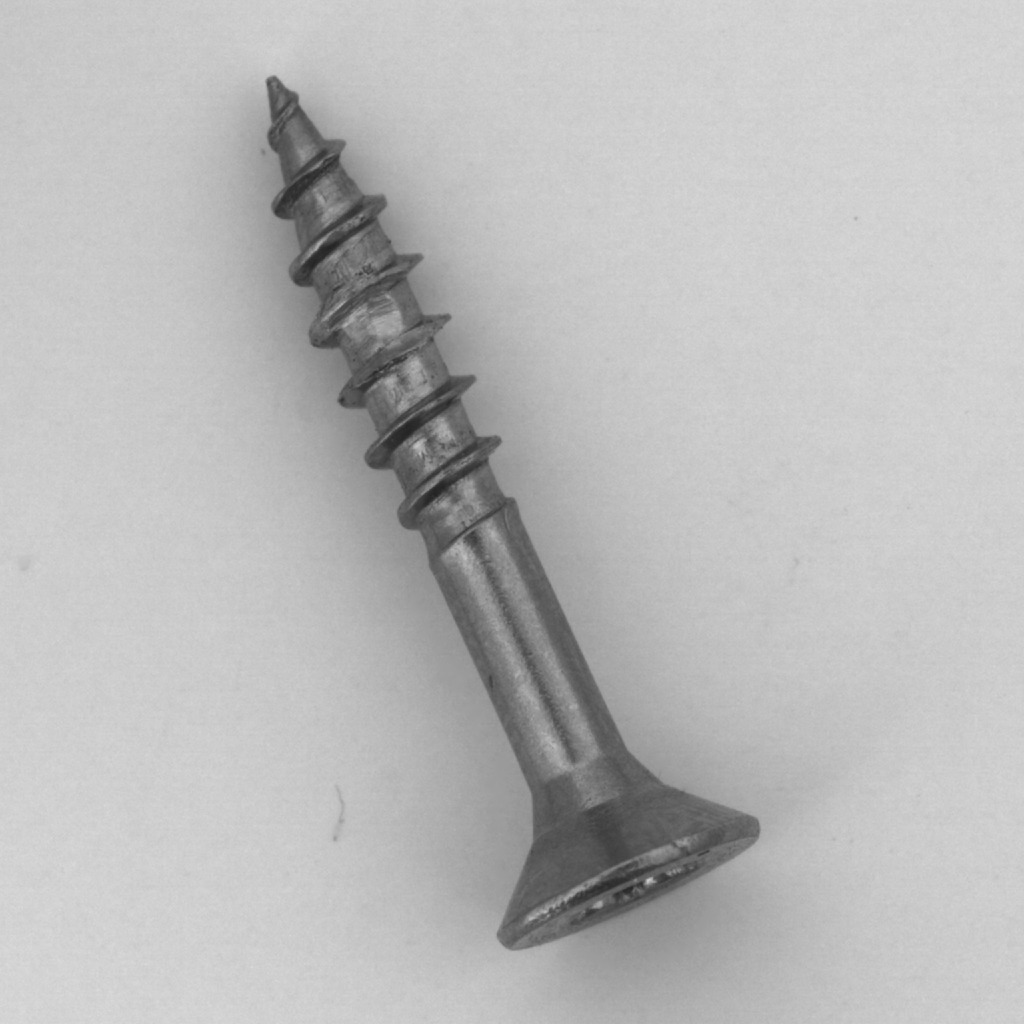thread_top: (251, 239, 503, 420)
